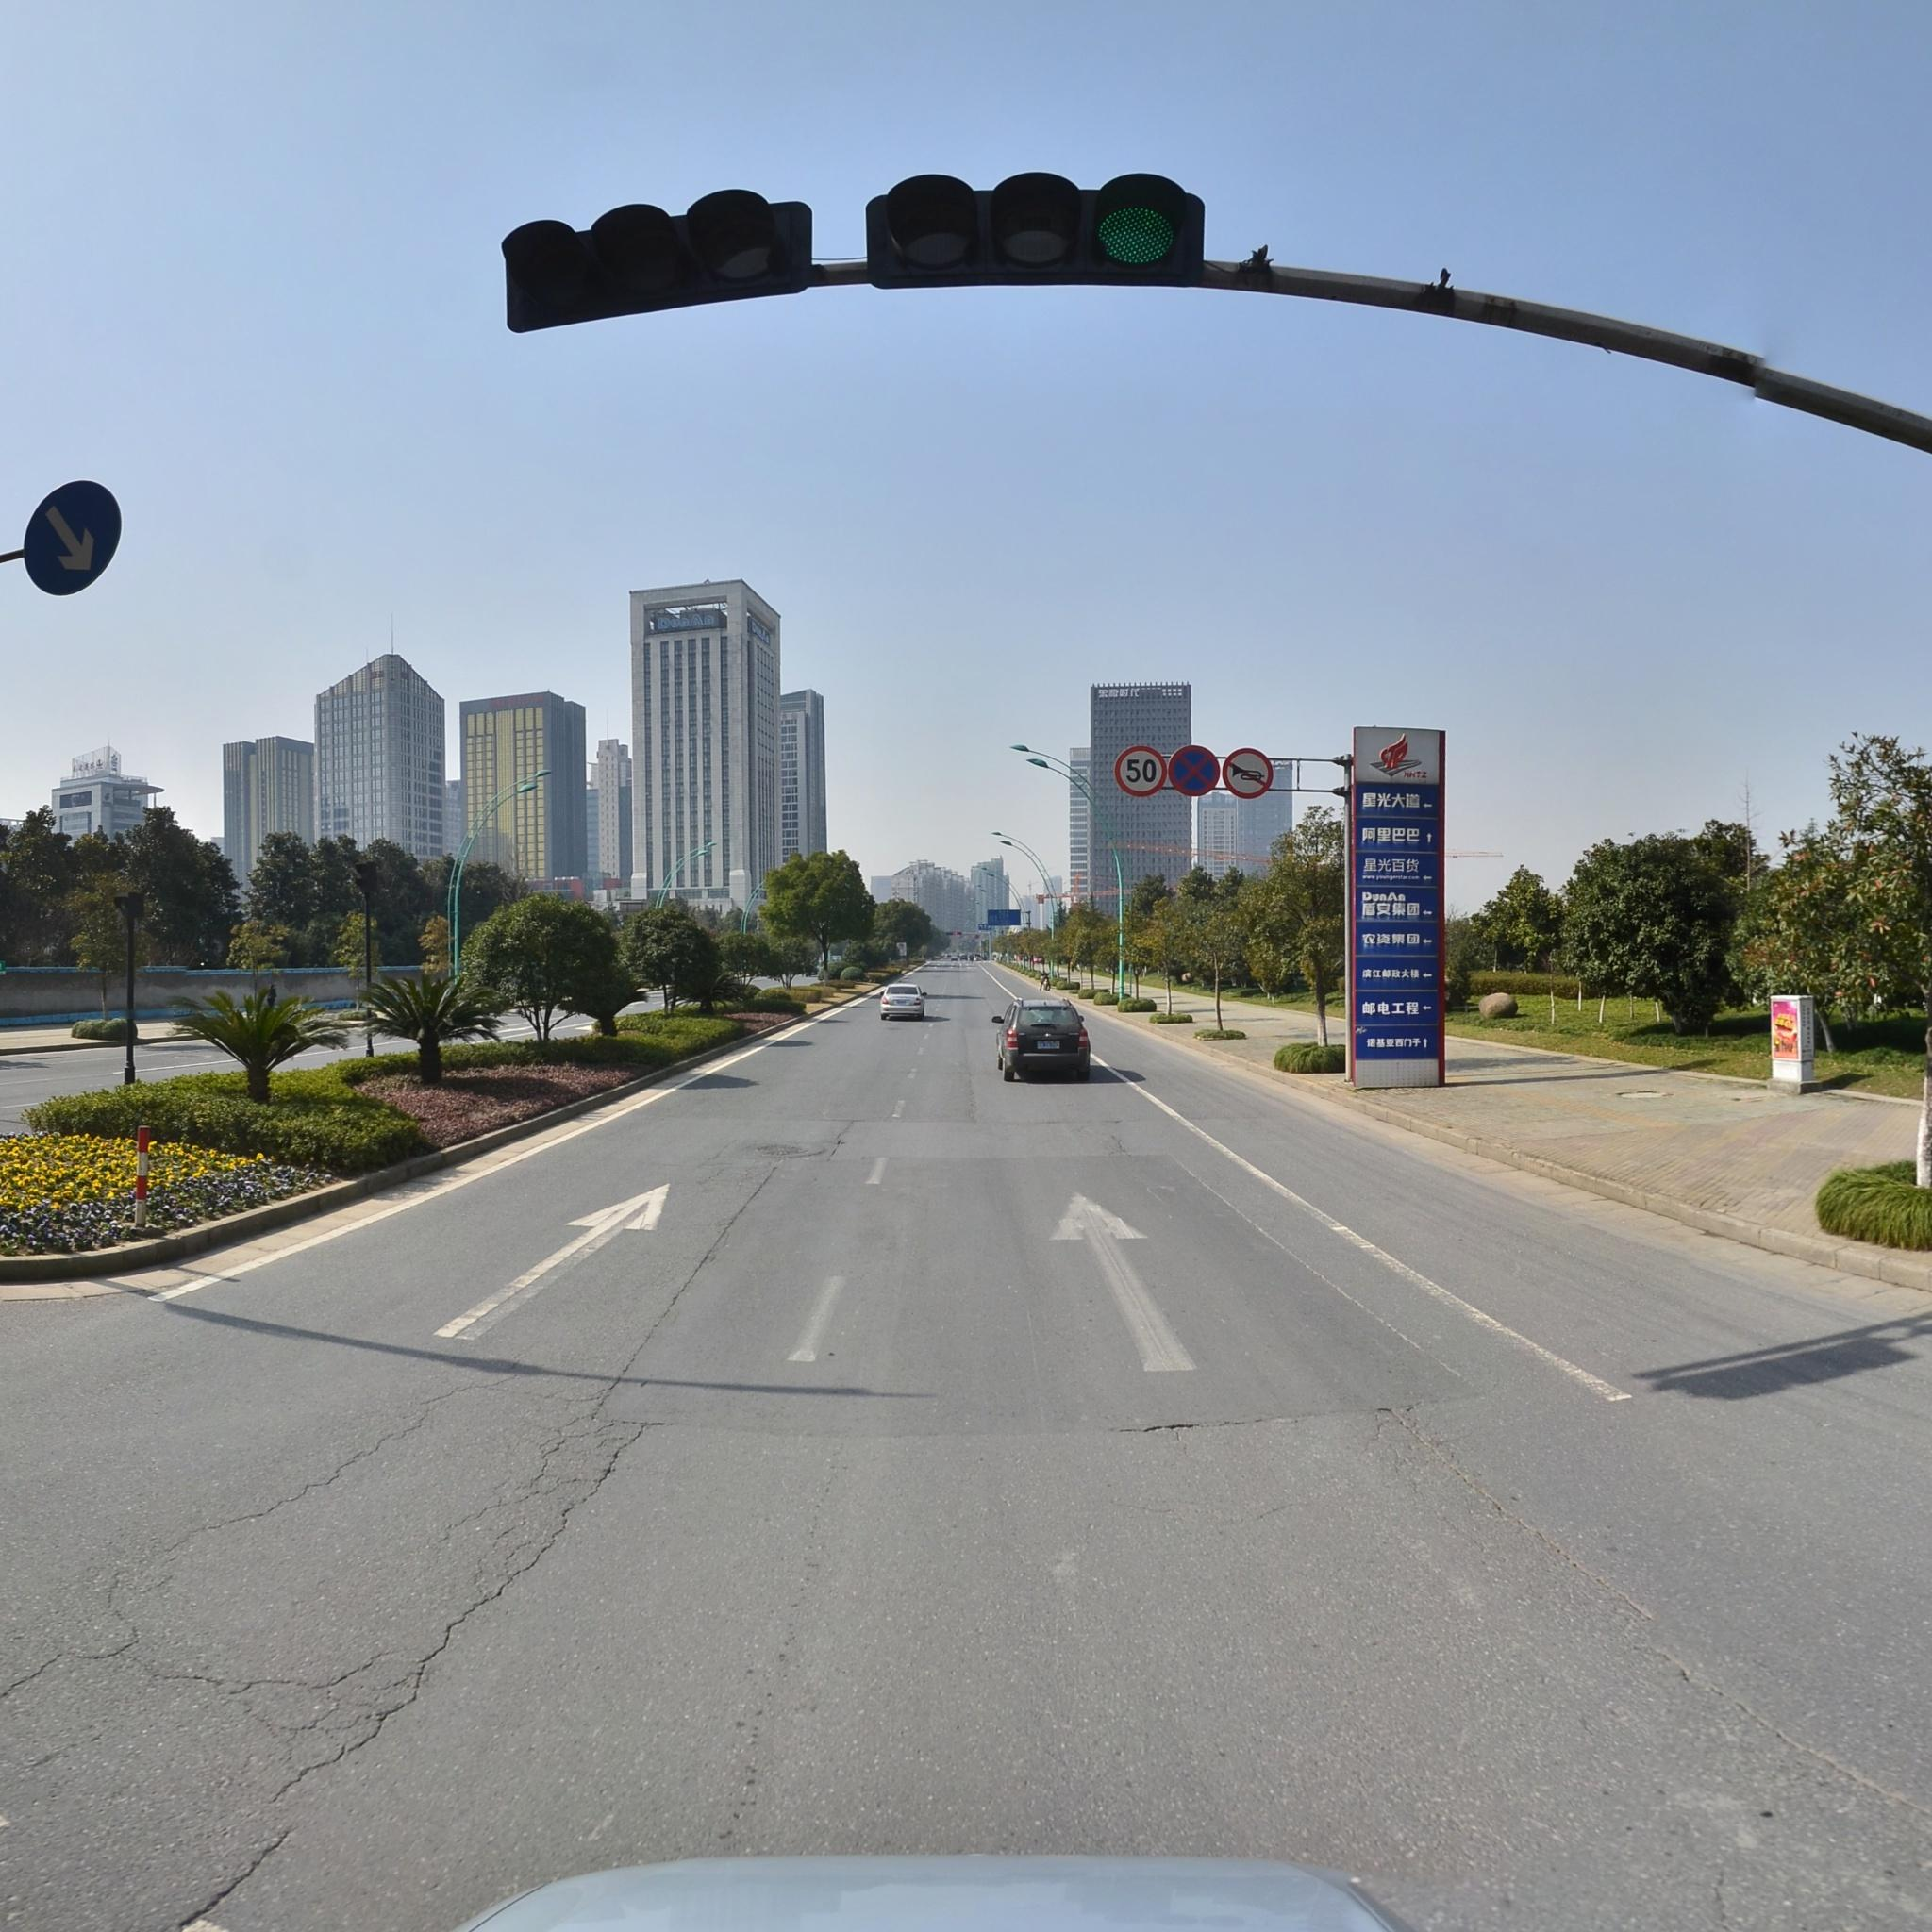i5: (25, 478, 117, 602)
p11: (1226, 747, 1272, 798)
pl50: (1116, 743, 1162, 791)
pn: (1177, 745, 1219, 794)
